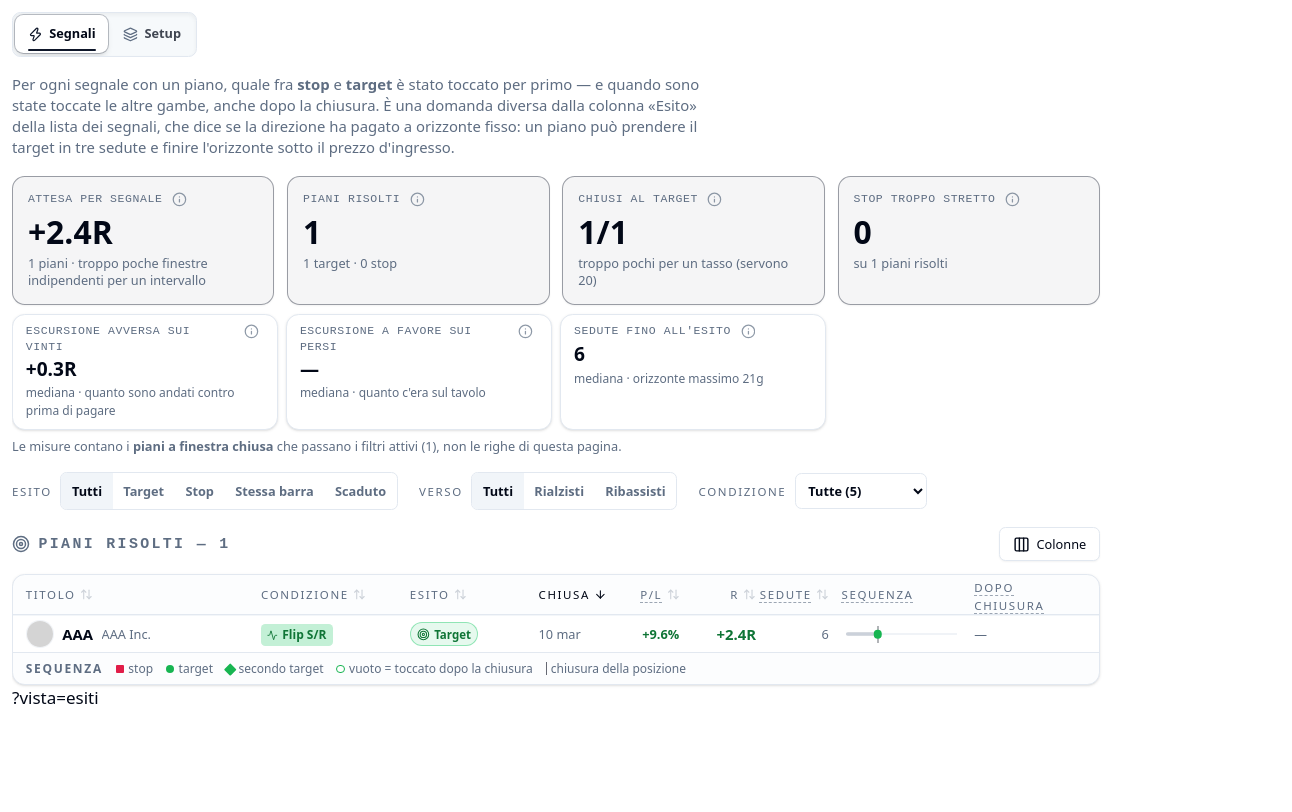
Scenario: OutcomesView — i controlli › il verso va al SERVER e resta nell'indirizzo
Expected: the text "AAA" is shown, [62,624,93,645]
Click the button "Ribassisti" at (636, 491), box [595,473,676,509]
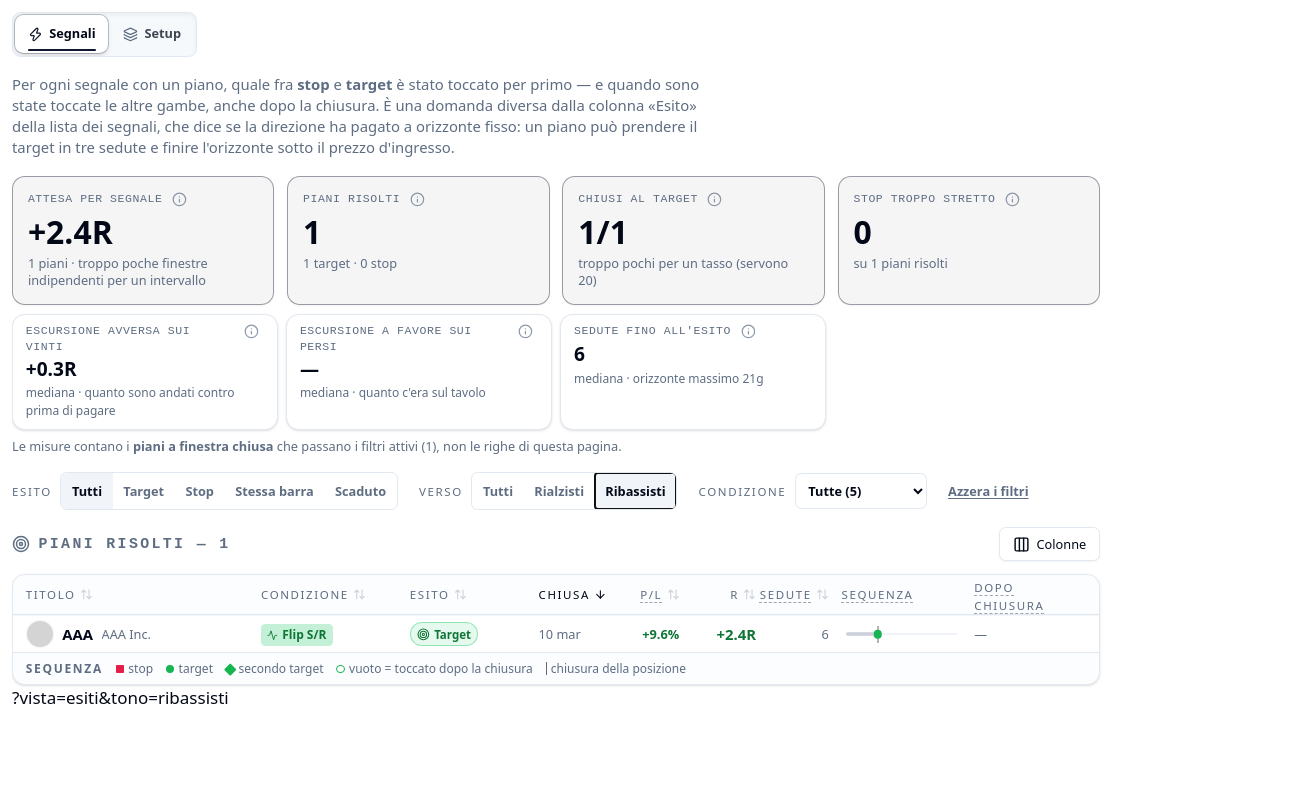
Expected: the text with test id "url" shows "tono=ribassisti", [12,686,229,709]
